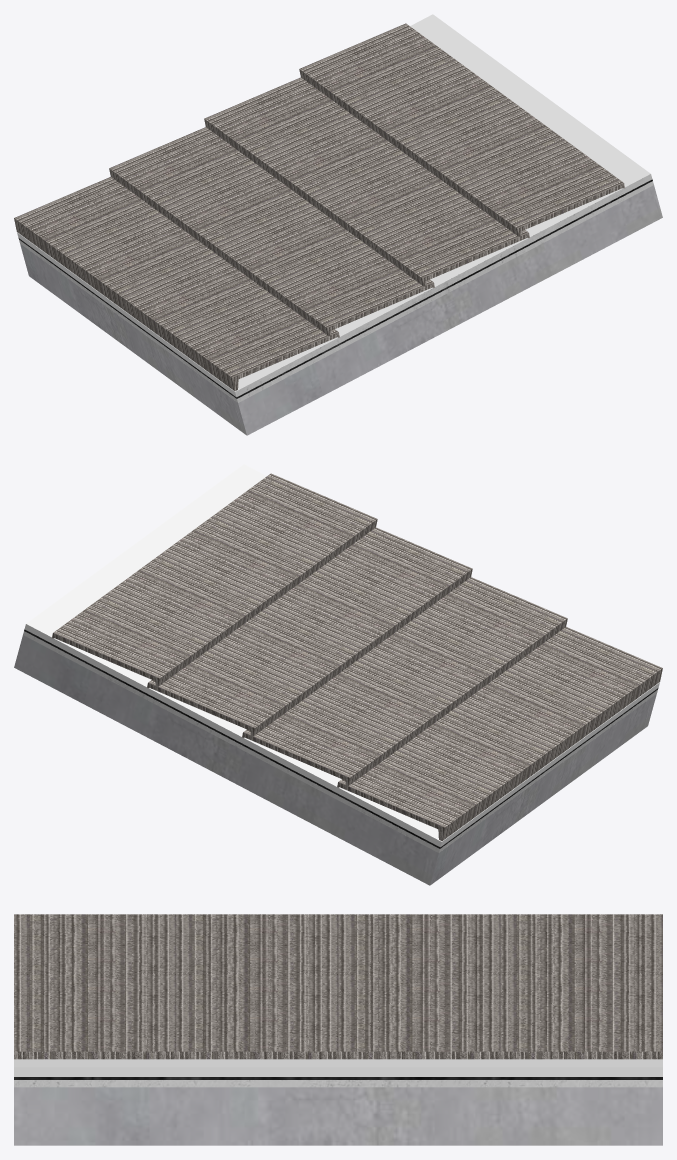
File: mortar-bed-tile-roof.glb
3 views of the same model, one above another, from view 1: azimuth 30°, elevation 25°; view 2: azimuth 150°, elevation 25°; view 3: azimuth 270°, elevation 25° (orthographic). The views are drawn at different scales.
Visible parts, largest first — view 1: 块瓦, 钢筋混凝土屋面板, 1：3水泥砂浆挂瓦层，最薄处 20mm, 1：3水泥砂浆找平层,厚 15mm, 高聚物改性沥青防水卷材，厚 3mm; view 2: 块瓦, 钢筋混凝土屋面板, 1：3水泥砂浆挂瓦层，最薄处 20mm, 1：3水泥砂浆找平层,厚 15mm, 高聚物改性沥青防水卷材，厚 3mm; view 3: 块瓦, 钢筋混凝土屋面板, 1：3水泥砂浆挂瓦层，最薄处 20mm, 1：3水泥砂浆找平层,厚 15mm, 高聚物改性沥青防水卷材，厚 3mm.
Part boxes in pixels (<box>): 块瓦: <box>14,23,624,390</box>; 钢筋混凝土屋面板: <box>20,185,662,435</box>; 1：3水泥砂浆挂瓦层，最薄处 20mm: <box>17,14,652,397</box>; 1：3水泥砂浆找平层,厚 15mm: <box>19,181,653,402</box>; 高聚物改性沥青防水卷材，厚 3mm: <box>18,179,652,398</box>; 块瓦: <box>52,473,662,840</box>; 钢筋混凝土屋面板: <box>14,635,656,885</box>; 1：3水泥砂浆挂瓦层，最薄处 20mm: <box>24,464,659,847</box>; 1：3水泥砂浆找平层,厚 15mm: <box>23,631,657,852</box>; 高聚物改性沥青防水卷材，厚 3mm: <box>24,629,658,848</box>; 块瓦: <box>14,914,662,1059</box>; 钢筋混凝土屋面板: <box>14,1087,662,1145</box>; 1：3水泥砂浆挂瓦层，最薄处 20mm: <box>14,1059,662,1076</box>; 1：3水泥砂浆找平层,厚 15mm: <box>14,1080,662,1087</box>; 高聚物改性沥青防水卷材，厚 3mm: <box>14,1077,662,1079</box>.
Size of the model in its own units: 1.5 by 0.5438 by 1.32.
6 materials, 5 textured.
